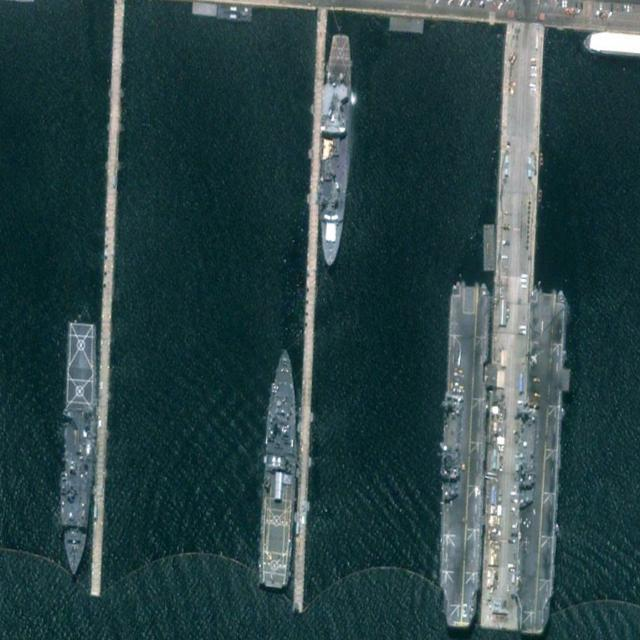Landing: (512, 287, 574, 636), (433, 279, 494, 630), (255, 343, 304, 591), (58, 320, 101, 577)
Other Ship: (316, 34, 356, 267)
